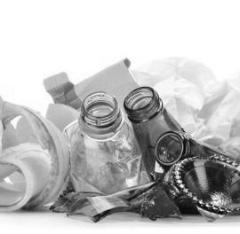glass: (122, 85, 239, 234)
